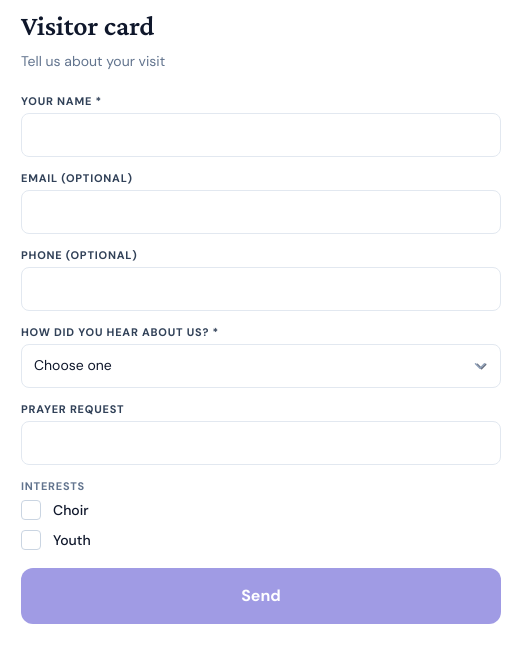
Test: PublicForm › keeps Send off until there is a name and the required questions are answered
Expected: the button "Send" is disabled, [21,568,501,624]
Step 1. Type "Ruth" into the field labelled "Your name *" → (261, 135), box [21,113,501,157]
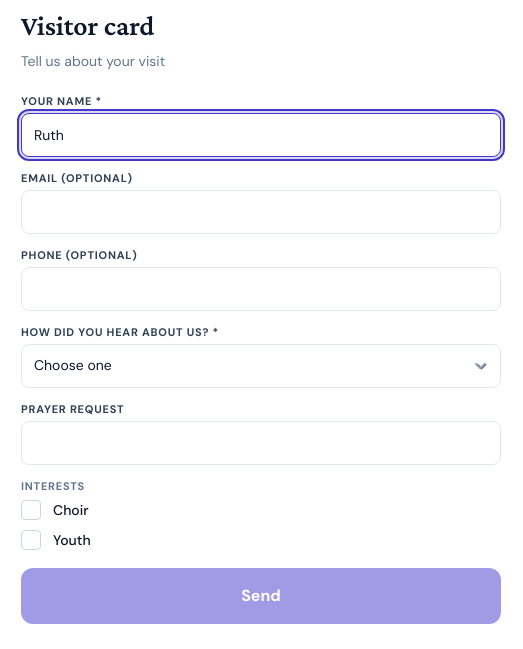
Expected: the button "Send" is disabled, [21,568,501,624]
Step 2. Select "Friend" in the dropdown labelled "How did you hear about us? *" → (261, 366), box [21,344,501,388]
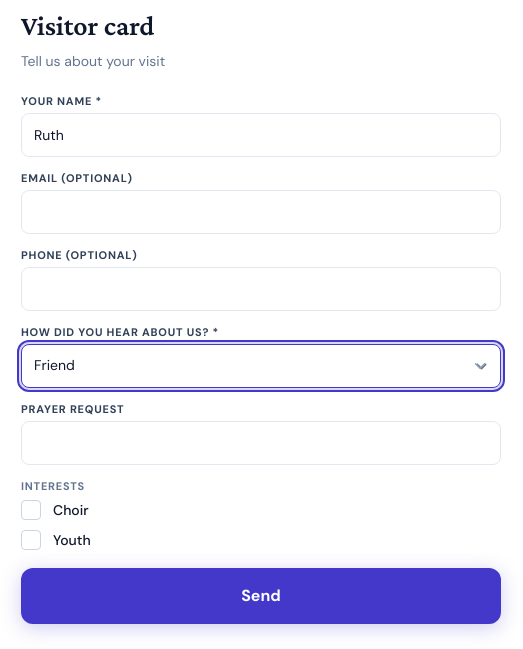
Result: the button "Send" is enabled at [21,568,501,624]
